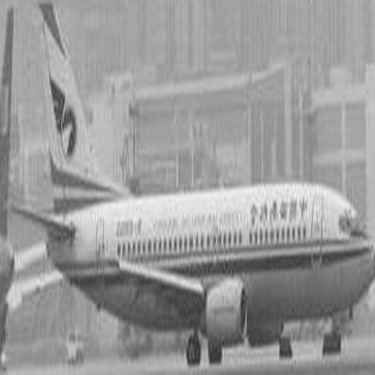airplane: (15, 4, 373, 373)
